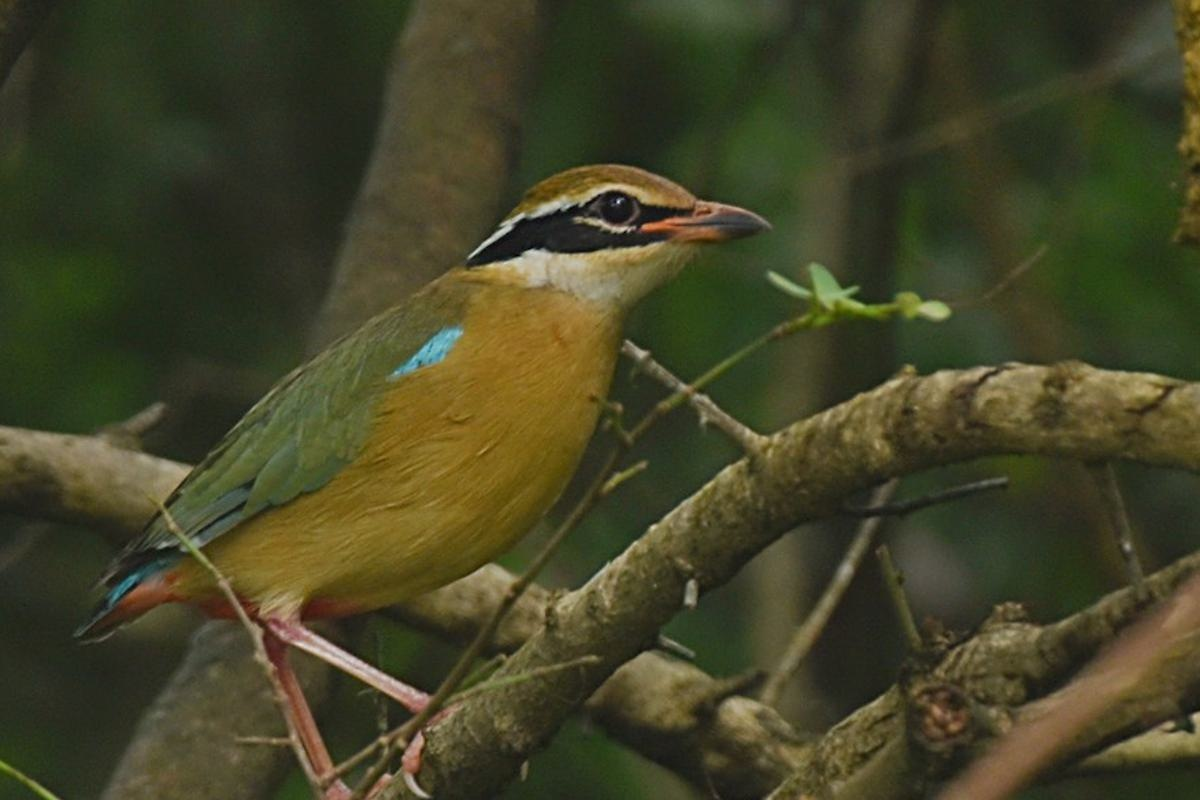pitta: (116, 130, 813, 735)
